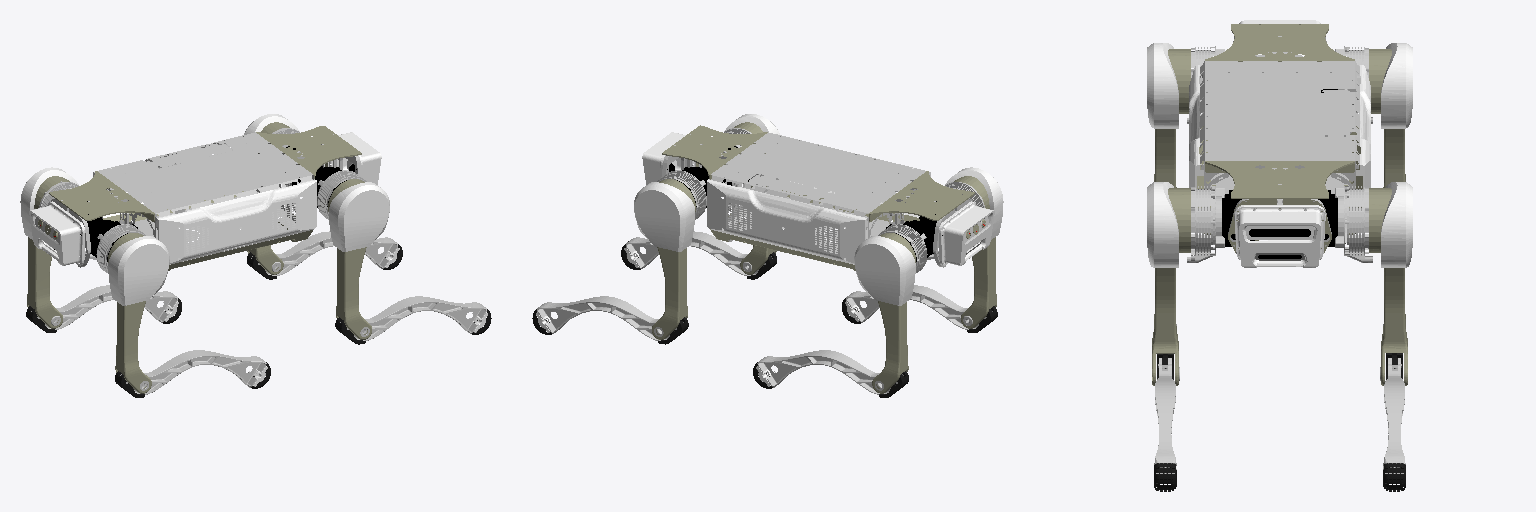
The robot description file, URDF, robot "x20_description":
<?xml version="1.0" encoding="utf-8"?> 
<robot name="x20_description"> 
  <link name="base">
    <visual>
      <origin rpy="0 0 0" xyz="0 0 0"/>
      <geometry>
        <box size="0.001 0.001 0.001"/>
      </geometry>
    </visual>
  </link>
  <joint name="floating_base" type="fixed">
    <origin rpy="0 0 0" xyz="0 0 0"/>
    <parent link="base"/>
    <child link="trunk"/>
  </joint>
  <link name="trunk"> 
    <inertial> 
      <origin xyz="0.0049299 0.00041299 0.0040884"/> 
      <mass value="26.398" /> 
      <inertia ixx="0.1632" ixy="-5.2136E-05" ixz="-0.00019406" iyy="0.40648" iyz="8.2679E-05" izz="0.52596" /> 
    </inertial> 
    <visual> 
      <geometry> 
        <mesh filename="../meshes/Torso.dae" /> 
      </geometry> 
    </visual> 
    <collision> 
      <geometry> 
        <box size="0.46 0.26 0.15"/> 
      </geometry> 
    </collision> 
  </link> 
  <joint name="imu_joint" type="fixed">
    <parent link="trunk"/>
    <child link="imu_link"/>
    <origin rpy="0 0 0" xyz="-0.01592 -0.06659 -0.00617"/>
  </joint>
  <link name="imu_link">
    <inertial>
      <mass value="0.001"/>
      <origin rpy="0 0 0" xyz="0 0 0"/>
      <inertia ixx="0.0001" ixy="0" ixz="0" iyy="0.0001" iyz="0" izz="0.0001"/>
    </inertial>
    <visual>
      <origin rpy="0 0 0" xyz="0 0 0"/>
      <geometry>
        <box size="0.001 0.001 0.001"/>
      </geometry>
      <material name="red"/>
    </visual>
    <!-- <collision>
      <origin rpy="0 0 0" xyz="0 0 0"/>
      <geometry>
        <box size=".001 .001 .001"/>
      </geometry>
    </collision> -->
  </link>
  <link name="FR_hip"> 
    <inertial> 
      <origin xyz="-0.00075689 0.0089129 5.0528E-05"/> 
      <mass value="1.5767" /> 
      <inertia ixx="0.0012141" ixy="-6.1989E-06" ixz="-2.8652E-06" iyy="0.0016912" iyz="3.7E-06" izz="0.0013431" /> 
    </inertial> 
    <visual> 
      <geometry> 
        <mesh filename="../meshes/FR_Hip.dae" /> 
      </geometry> 
    </visual> 
  </link> 
 
  <joint name="FR_hip_joint" type="revolute"> 
    <origin xyz="0.292 -0.08 0"/> 
    <parent link="trunk" /> 
    <child link="FR_hip" /> 
    <axis xyz="-1 0 0" /> 
    <dynamics damping="0.01" friction="0.03"/> 
    <limit lower="-0.496" upper="0.496" effort="100" velocity="20" /> 
  </joint> 
 
  <link name="FR_thigh"> 
    <inertial> 
      <origin xyz="-0.0025266 0.022119 -0.029194"/> 
      <mass value="3.0062" /> 
      <inertia ixx="0.00581" ixy="-4.2781E-05" ixz="-3.0682E-06" iyy="0.0080684" iyz="6.8812E-05" izz="0.0038739" /> 
    </inertial> 
    <visual> 
      <geometry> 
        <mesh filename="../meshes/R_Thigh.dae" /> 
      </geometry> 
    </visual> 
    <collision> 
      <origin xyz="-0.02 0 -0.13" /> 
      <geometry> 
        <cylinder length="0.25" radius="0.04"/> 
      </geometry> 
    </collision> 
  </link> 
 
  <joint name="FR_thigh_joint" type="revolute"> 
    <origin xyz="0 -0.12325 0"/> 
    <parent link="FR_hip" /> 
    <child link="FR_thigh" /> 
    <axis xyz="0 -1 0" /> 
    <dynamics damping="0.01" friction="0.03"/> 
    <limit lower="-2.79" upper="0.257" effort="100" velocity="20" /> 
  </joint> 
 
  <link name="FR_calf"> 
    <inertial> 
      <origin xyz="0.0070425 1.3129E-06 -0.16459"/> 
      <mass value="0.60332" /> 
      <inertia ixx="0.0054272" ixy="8.0708E-08" ixz="0.00019488" iyy="0.0056451" iyz="-1.6129E-06" izz="0.00031257" /> 
    </inertial> 
    <visual> 
      <geometry> 
        <mesh filename="../meshes/Shank.dae" /> 
      </geometry> 
    </visual> 
    <collision> 
      <origin xyz="0.00 0 -0.155" /> 
      <geometry> 
        <!-- <sphere radius="0.036"/> --> 
        <cylinder length="0.22" radius="0.025"/> 
      </geometry> 
    </collision> 
  </link> 
 
  <joint name="FR_calf_joint" type="revolute"> 
    <origin xyz="0 0 -0.3"/> 
    <parent link="FR_thigh" /> 
    <child link="FR_calf" /> 
    <axis xyz="0 -1 0" /> 
    <dynamics damping="0.01" friction="0.03"/> 
    <limit lower="0.35" upper="2.48" effort="160" velocity="20" /> 
  </joint> 
 
  <link name="FR_foot"> 
    <inertial> 
      <mass value="0.06" /> 
      <inertia ixx="1E-12" ixy="0" ixz="0" iyy="1E-12" iyz="0" izz="1E-12" /> 
    </inertial> 
    <collision> 
      <geometry> 
        <sphere radius="0.025"/> 
      </geometry> 
    </collision> 
  </link> 
 
  <joint name="FR_foot_fixed" type="fixed" dont_collapse="true"> 
    <origin xyz="0 -0.002 -0.32"/> 
    <parent link="FR_calf" /> 
    <child link="FR_foot" /> 
  </joint> 
  <link name="FL_hip"> 
    <inertial> 
      <origin xyz="-0.00075689 -0.0089129 -5.0528E-05"/> 
      <mass value="1.5767" /> 
      <inertia ixx="0.0012141" ixy="6.1989E-06" ixz="2.8652E-06" iyy="0.0016912" iyz="3.7E-06" izz="0.0013431" /> 
    </inertial> 
    <visual> 
      <geometry> 
        <mesh filename="../meshes/FL_Hip.dae" /> 
      </geometry> 
    </visual> 
  </link> 
 
  <joint name="FL_hip_joint" type="revolute"> 
    <origin xyz="0.292 0.08 0"/> 
    <parent link="trunk" /> 
    <child link="FL_hip" /> 
    <axis xyz="-1 0 0" /> 
    <dynamics damping="0.01" friction="0.03"/> 
    <limit lower="-0.496" upper="0.496" effort="100" velocity="20" /> 
  </joint> 
 
  <link name="FL_thigh"> 
    <inertial> 
      <origin xyz="-0.0025263 -0.022118 -0.0292"/> 
      <mass value="3.0063" /> 
      <inertia ixx="0.0058102" ixy="4.2848E-05" ixz="-3.0429E-06" iyy="0.0080686" iyz="-6.8889E-05" izz="0.003874" /> 
    </inertial> 
    <visual> 
      <geometry> 
        <mesh filename="../meshes/L_Thigh.dae" /> 
      </geometry> 
    </visual> 
    <collision> 
      <origin xyz="-0.02 0 -0.13" /> 
      <geometry> 
        <cylinder length="0.25" radius="0.04"/> 
      </geometry> 
    </collision> 
  </link> 
 
  <joint name="FL_thigh_joint" type="revolute"> 
    <origin xyz="0 0.12325 0"/> 
    <parent link="FL_hip" /> 
    <child link="FL_thigh" /> 
    <axis xyz="0 -1 0" /> 
    <dynamics damping="0.01" friction="0.03"/> 
    <limit lower="-2.79" upper="0.257" effort="100" velocity="20" /> 
  </joint> 
 
  <link name="FL_calf"> 
    <inertial> 
      <origin xyz="0.0070425 1.3129E-06 -0.16459"/> 
      <mass value="0.60332" /> 
      <inertia ixx="0.0054272" ixy="8.0708E-08" ixz="0.00019488" iyy="0.0056451" iyz="-1.6129E-06" izz="0.00031257" /> 
    </inertial> 
    <visual> 
      <geometry> 
        <mesh filename="../meshes/Shank.dae" /> 
      </geometry> 
    </visual> 
    <collision> 
      <origin xyz="0.00 0 -0.155" /> 
      <geometry> 
        <!-- <sphere radius="0.036"/> --> 
        <cylinder length="0.22" radius="0.025"/> 
      </geometry> 
    </collision> 
  </link> 
 
  <joint name="FL_calf_joint" type="revolute"> 
    <origin xyz="0 0 -0.3"/> 
    <parent link="FL_thigh" /> 
    <child link="FL_calf" /> 
    <axis xyz="0 -1 0" /> 
    <dynamics damping="0.01" friction="0.03"/> 
    <limit lower="0.35" upper="2.48" effort="160" velocity="20" /> 
  </joint> 
 
  <link name="FL_foot"> 
    <inertial> 
      <mass value="0.06" /> 
      <inertia ixx="1E-12" ixy="0" ixz="0" iyy="1E-12" iyz="0" izz="1E-12" /> 
    </inertial> 
    <collision> 
      <geometry> 
        <sphere radius="0.025"/> 
      </geometry> 
    </collision> 
  </link> 
 
  <joint name="FL_foot_fixed" type="fixed" dont_collapse="true"> 
    <origin xyz="0 0.002 -0.32"/> 
    <parent link="FL_calf" /> 
    <child link="FL_foot" /> 
  </joint> 
 
 
  <joint name="RR_hip_joint" type="revolute"> 
    <origin xyz="-0.292 -0.08 0"/> 
    <parent link="trunk" /> 
    <child link="RR_hip" /> 
    <axis xyz="-1 0 0" /> 
    <dynamics damping="0.01" friction="0.03"/> 
    <limit lower="-0.496" upper="0.496" effort="100" velocity="20" /> 
  </joint> 
 
  <link name="RR_thigh"> 
    <inertial> 
      <origin xyz="-0.0025266 0.022119 -0.029194"/> 
      <mass value="3.0062" /> 
      <inertia ixx="0.00581" ixy="-4.2781E-05" ixz="-3.0688E-06" iyy="0.0080684" iyz="6.8812E-05" izz="0.0038739" /> 
    </inertial> 
    <visual> 
      <geometry> 
        <mesh filename="../meshes/R_Thigh.dae" /> 
      </geometry> 
    </visual> 
    <collision> 
      <origin xyz="-0.02 0 -0.13" /> 
      <geometry> 
        <cylinder length="0.25" radius="0.04"/> 
      </geometry> 
    </collision> 
  </link> 
 
  <joint name="RR_thigh_joint" type="revolute"> 
    <origin xyz="0 -0.12325 0"/> 
    <parent link="RR_hip" /> 
    <child link="RR_thigh" /> 
    <axis xyz="0 -1 0" /> 
    <dynamics damping="0.01" friction="0.03"/> 
    <limit lower="-2.79" upper="0.257" effort="100" velocity="20" /> 
  </joint> 
 
  <link name="RR_calf"> 
    <inertial> 
      <origin xyz="0.0070425 0.0 -0.16459"/> 
      <mass value="0.60332" /> 
      <inertia ixx="0.0054272" ixy="8.0708E-08" ixz="0.00019488" iyy="0.0056451" iyz="-1.6129E-06" izz="0.00031257" /> 
    </inertial> 
    <visual> 
      <geometry> 
        <mesh filename="../meshes/Shank.dae" /> 
      </geometry> 
    </visual> 
    <collision> 
      <origin xyz="0.00 0 -0.155" /> 
      <geometry> 
        <!-- <sphere radius="0.036"/> --> 
        <cylinder length="0.22" radius="0.025"/> 
      </geometry> 
    </collision> 
  </link> 
 
  <joint name="RR_calf_joint" type="revolute"> 
    <origin xyz="0 0 -0.3"/> 
    <parent link="RR_thigh" /> 
    <child link="RR_calf" /> 
    <axis xyz="0 -1 0" /> 
    <dynamics damping="0.01" friction="0.03"/> 
    <limit lower="0.35" upper="2.48" effort="160" velocity="20" /> 
  </joint> 
 
  <link name="RR_foot"> 
    <inertial> 
      <mass value="0.06" /> 
      <inertia ixx="1E-12" ixy="0" ixz="0" iyy="1E-12" iyz="0" izz="1E-12" /> 
    </inertial> 
    <collision> 
      <geometry> 
        <sphere radius="0.025"/> 
      </geometry> 
    </collision> 
  </link> 
 
  <joint name="RR_foot_fixed" type="fixed" dont_collapse="true"> 
    <origin xyz="0 -0.002 -0.32"/> 
    <parent link="RR_calf" /> 
    <child link="RR_foot" /> 
  </joint>  
 
  <link name="RL_hip"> 
    <inertial> 
      <origin xyz="0.00075689 -0.0089129 5.0528E-05"/> 
      <mass value="1.5767" /> 
      <inertia ixx="0.0012141" ixy="-6.1989E-06" ixz="2.8652E-06" iyy="0.0016912" iyz="-3.7E-06" izz="0.0013431" /> 
    </inertial> 
    <visual> 
      <geometry> 
        <mesh filename="../meshes/HL_Hip.dae" /> 
      </geometry> 
    </visual> 
  </link> 
 
  <joint name="RL_hip_joint" type="revolute"> 
    <origin xyz="-0.292 0.08 0"/> 
    <parent link="trunk" /> 
    <child link="RL_hip" /> 
    <axis xyz="-1 0 0" /> 
    <dynamics damping="0.01" friction="0.03"/> 
    <limit lower="-0.496" upper="0.496" effort="100" velocity="20" /> 
  </joint> 
 
  <link name="RL_thigh"> 
    <inertial> 
      <origin xyz="-0.0025264 -0.022118 -0.0292"/> 
      <mass value="3.0063" /> 
      <inertia ixx="0.0058102" ixy="4.2848E-05" ixz="-3.0439E-06" iyy="0.0080686" iyz="-6.889E-05" izz="0.003874" /> 
    </inertial> 
    <visual> 
      <geometry> 
        <mesh filename="../meshes/L_Thigh.dae" /> 
      </geometry> 
    </visual> 
    <collision> 
      <origin xyz="-0.02 0 -0.13" /> 
      <geometry> 
        <cylinder length="0.25" radius="0.04"/> 
      </geometry> 
    </collision> 
  </link> 
 
  <joint name="RL_thigh_joint" type="revolute"> 
    <origin xyz="0 0.12325 0"/> 
    <parent link="RL_hip" /> 
    <child link="RL_thigh" /> 
    <axis xyz="0 -1 0" /> 
    <dynamics damping="0.01" friction="0.03"/> 
    <limit lower="-2.79" upper="0.257" effort="100" velocity="20" /> 
  </joint> 
 
  <link name="RL_calf"> 
    <inertial> 
      <origin xyz="0.0070425 0 -0.16459"/> 
      <mass value="0.60332" /> 
      <inertia ixx="0.0054272" ixy="8.0708E-08" ixz="0.00019488" iyy="0.0056451" iyz="-1.6129E-06" izz="0.00031257" /> 
    </inertial> 
    <visual> 
      <geometry> 
        <mesh filename="../meshes/Shank.dae" /> 
      </geometry> 
    </visual> 
    <collision> 
      <origin xyz="0.00 0 -0.155" /> 
      <geometry> 
        <!-- <sphere radius="0.036"/> --> 
        <cylinder length="0.22" radius="0.025"/> 
      </geometry> 
    </collision> 
  </link> 
 
  <joint name="RL_calf_joint" type="revolute"> 
    <origin xyz="0 0 -0.3"/> 
    <parent link="RL_thigh" /> 
    <child link="RL_calf" /> 
    <axis xyz="0 -1 0" /> 
    <dynamics damping="0.01" friction="0.03"/> 
    <limit lower="0.35" upper="2.48" effort="160" velocity="20" /> 
  </joint> 
 
  <link name="RL_foot"> 
    <inertial> 
      <mass value="0.06" /> 
      <inertia ixx="1E-12" ixy="0" ixz="0" iyy="1E-12" iyz="0" izz="1E-12" /> 
    </inertial> 
    <collision> 
      <geometry> 
        <sphere radius="0.025"/> 
      </geometry> 
    </collision> 
  </link> 
 
  <joint name="RL_foot_fixed" type="fixed" dont_collapse="true"> 
    <origin xyz="0 0.002 -0.32"/> 
    <parent link="RL_calf" /> 
    <child link="RL_foot" /> 
  </joint> 
 
  <link name="RR_hip"> 
    <inertial> 
      <origin xyz="0.00075689 0.0089129 -5.0528E-05"/> 
      <mass value="1.5767" /> 
      <inertia ixx="0.0012141" ixy="6.1989E-06" ixz="-2.8652E-06" iyy="0.0016912" iyz="-3.7E-06" izz="0.0013431" /> 
    </inertial> 
    <visual> 
      <geometry> 
        <mesh filename="../meshes/HR_Hip.dae" /> 
      </geometry> 
    </visual> 
  </link> 

</robot>

--- Facts derived from the render (not from the file) ---
3 views of the same robot in one strip: view 1: azimuth 30°, elevation 25°; view 2: azimuth 150°, elevation 25°; view 3: azimuth 270°, elevation 25° (orthographic).
Model x20_description with 19 links and 18 joints (12 revolute, 6 fixed), rooted at base, posed joints at zero except 4 at the middle of their limits (FR_calf_joint = 1.42, FL_calf_joint = 1.42, RR_calf_joint = 1.42, RL_calf_joint = 1.42).
Visible links, largest first — view 1: trunk, FR_thigh, RR_thigh, RL_thigh, RR_calf, FR_calf, FL_calf, RL_calf, FL_thigh; view 2: trunk, FL_thigh, RL_thigh, RR_thigh, RL_calf, FL_calf, FR_calf, RR_calf, FR_thigh; view 3: trunk, FR_thigh, FL_thigh, RL_thigh, RR_thigh, FL_calf, FR_calf.
Boxes of the visible links, x1,y1,x2,y2 form: trunk: [29, 126, 381, 270]; FR_thigh: [317, 170, 389, 339]; RR_thigh: [96, 224, 169, 393]; RL_thigh: [20, 167, 78, 328]; RR_calf: [115, 350, 270, 397]; FR_calf: [335, 296, 491, 344]; FL_calf: [247, 231, 402, 279]; RL_calf: [26, 285, 181, 332]; FL_thigh: [244, 114, 299, 274]; trunk: [642, 125, 994, 270]; FL_thigh: [634, 170, 706, 339]; RL_thigh: [854, 224, 927, 393]; RR_thigh: [945, 167, 1003, 328]; RL_calf: [753, 350, 908, 397]; FL_calf: [532, 296, 688, 344]; FR_calf: [621, 231, 776, 279]; RR_calf: [842, 285, 997, 332]; FR_thigh: [724, 114, 779, 274]; trunk: [1189, 20, 1370, 267]; FR_thigh: [1147, 182, 1224, 385]; FL_thigh: [1335, 182, 1412, 385]; RL_thigh: [1335, 43, 1412, 187]; RR_thigh: [1147, 43, 1224, 187]; FL_calf: [1383, 353, 1405, 491]; FR_calf: [1154, 354, 1176, 491].
Size in the robot's own frame: 1.06 by 0.47 by 0.4621 metres.
Meshes: 8 distinct files referenced, 13 mesh visuals loaded (8 Collada DAE).
